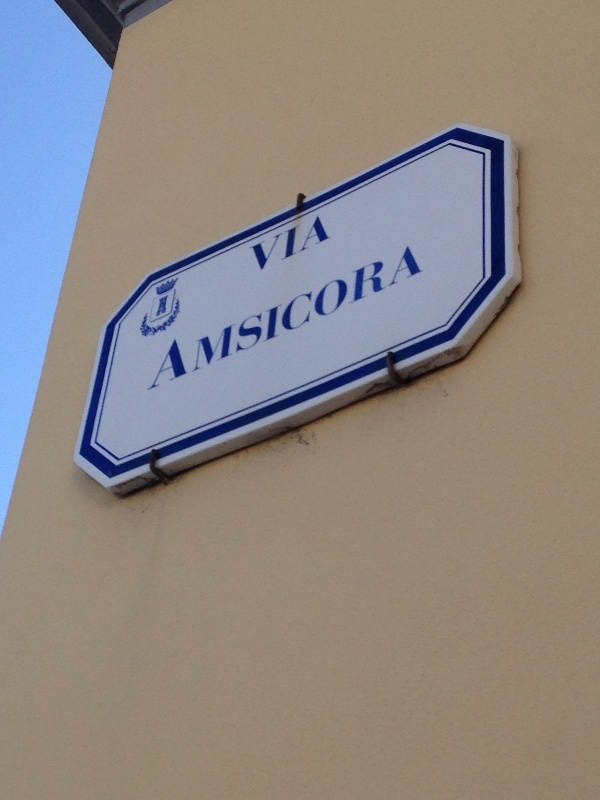text: (177, 245, 192, 391), (193, 245, 208, 391), (209, 245, 224, 391), (225, 245, 240, 391), (241, 245, 256, 391), (257, 245, 272, 391), (273, 245, 288, 391), (289, 245, 304, 391), (305, 245, 320, 391), (321, 245, 336, 391), (337, 245, 352, 391), (353, 245, 368, 391), (369, 245, 384, 391), (385, 245, 400, 391), (401, 245, 416, 391), (417, 245, 424, 391), (257, 215, 272, 270), (273, 215, 288, 270), (289, 215, 304, 270), (305, 215, 320, 270), (321, 215, 330, 270), (173, 245, 176, 391), (250, 215, 256, 270), (161, 294, 169, 316), (159, 294, 160, 316)
